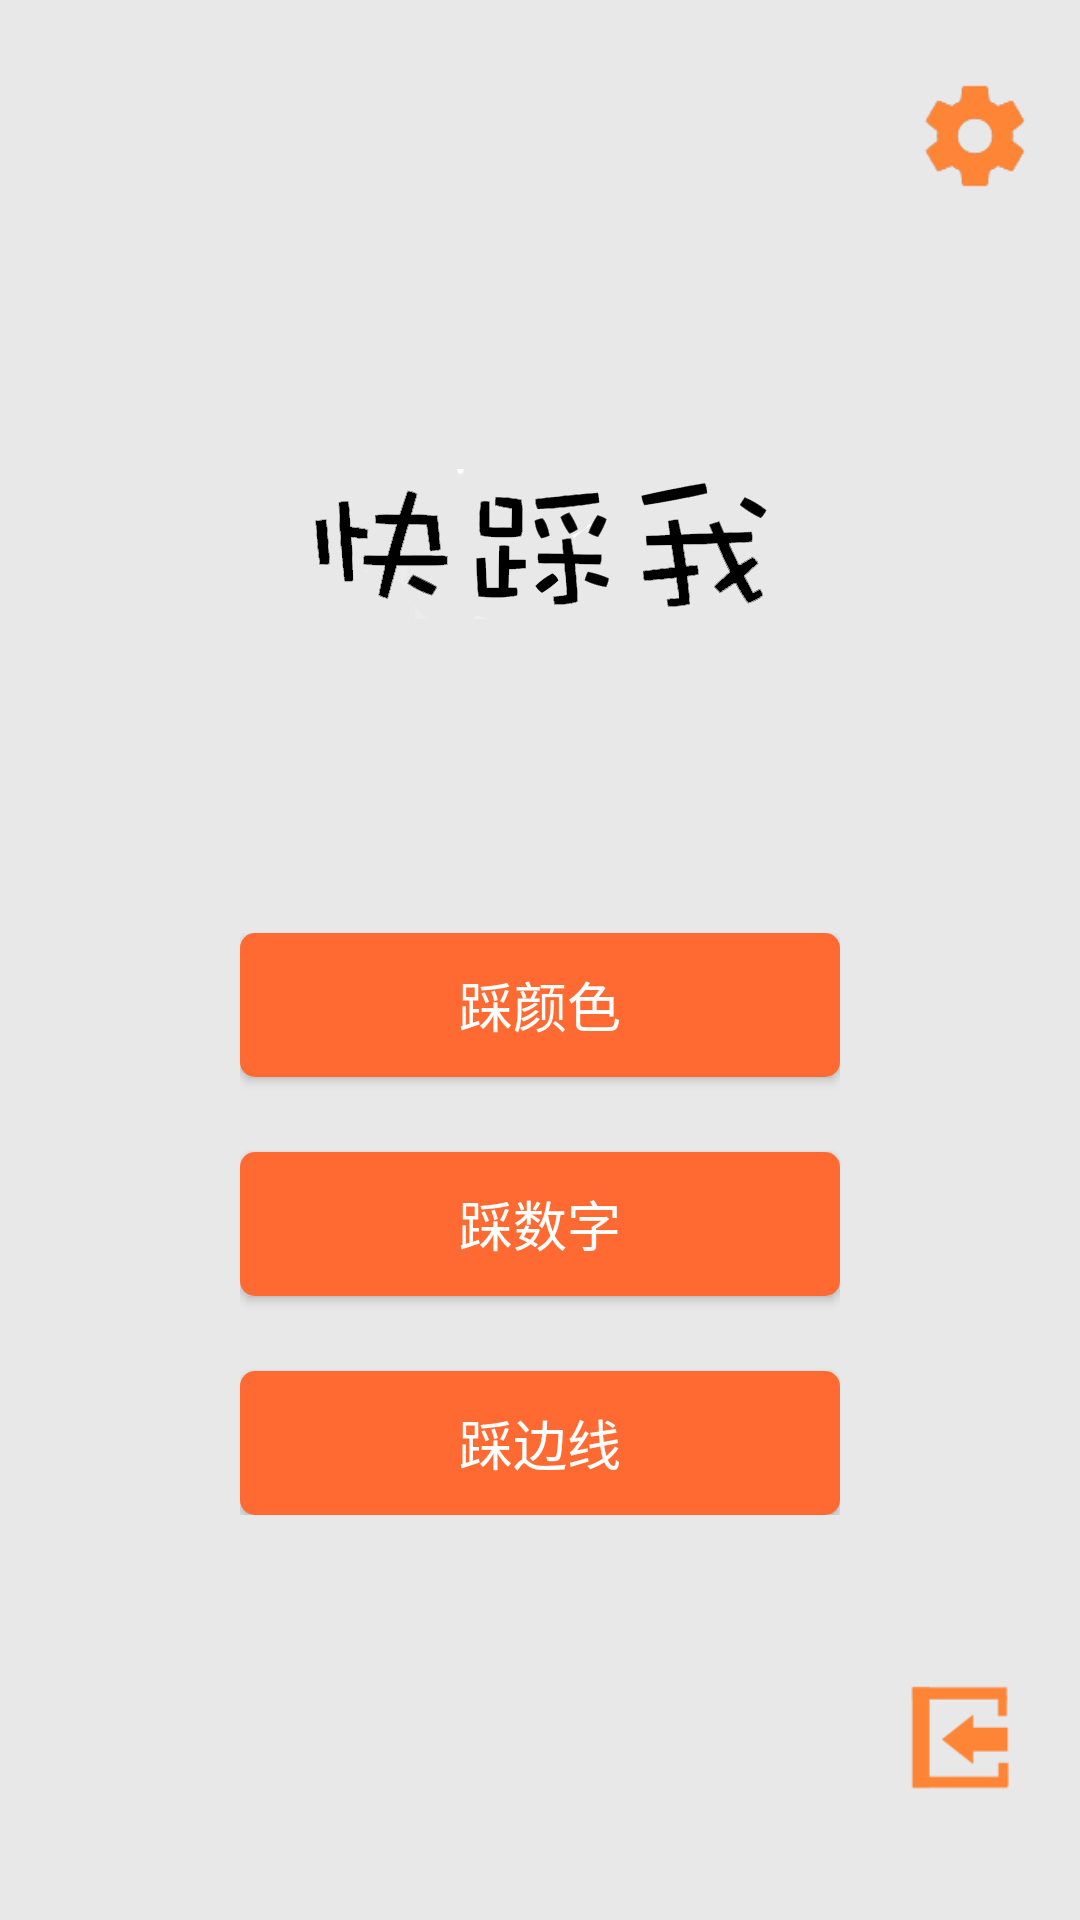

Point at icon controls on the screen. Image size 1080x1920, points as point (x, y).
exit: point (960, 1737)
settings: point (974, 136)
